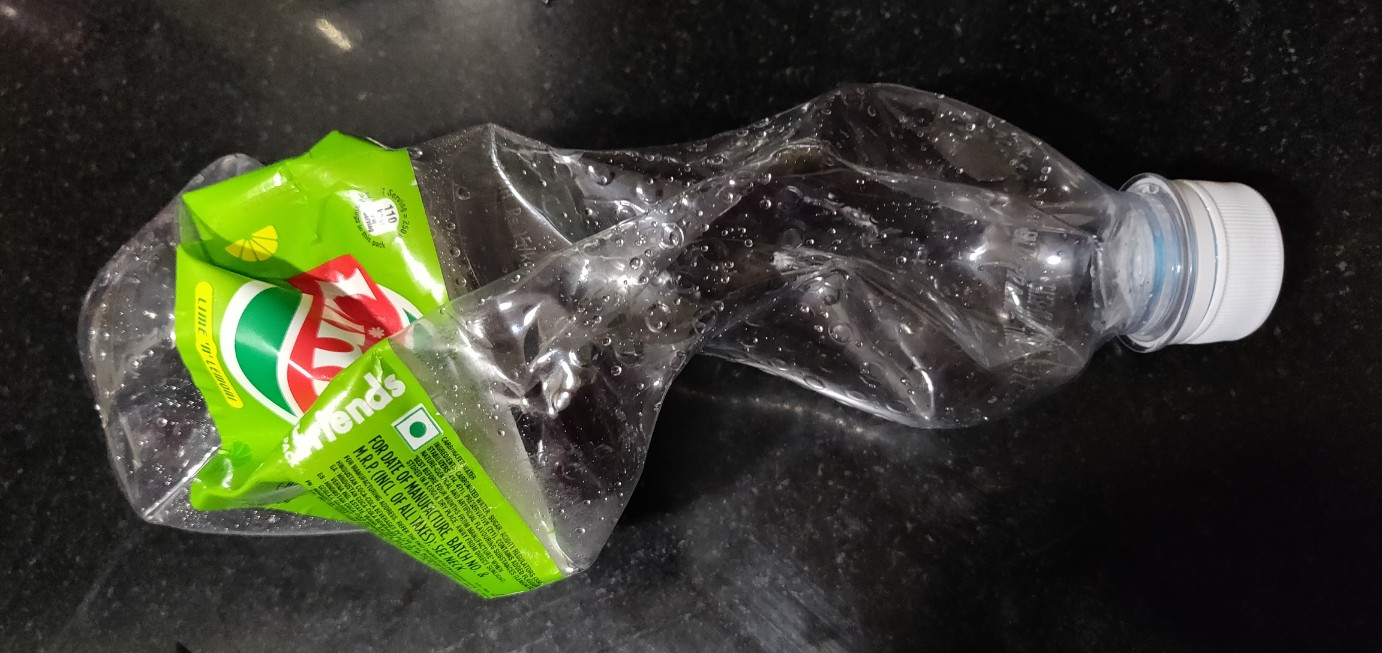Electronics: (52, 47, 1316, 617)
